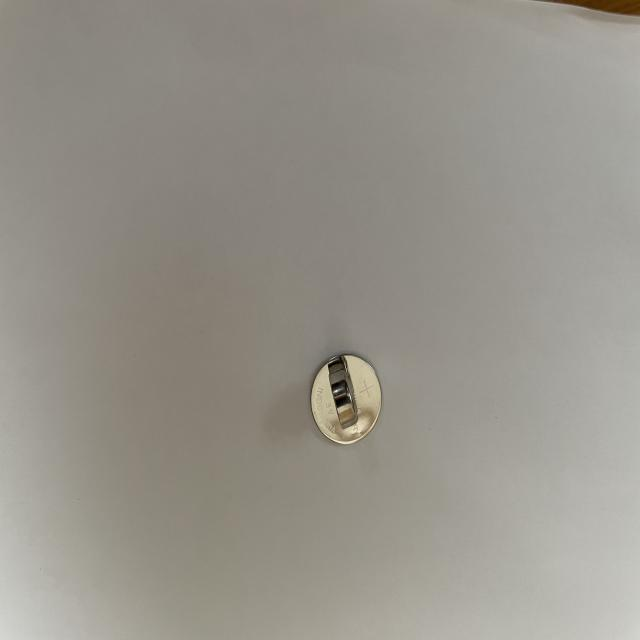COIN: (310, 354, 380, 444), (328, 354, 360, 429)
